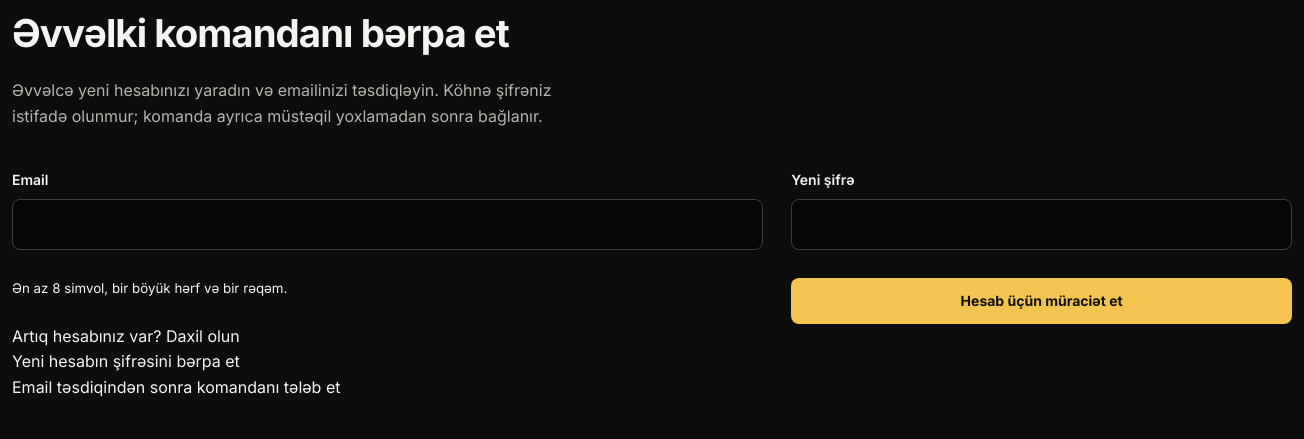
Scenario: failed activation preserves input without claiming success
Step 1. Type "synthetic@example.test" into the field labelled "Email" → (388, 224), box [12,199,763,250]
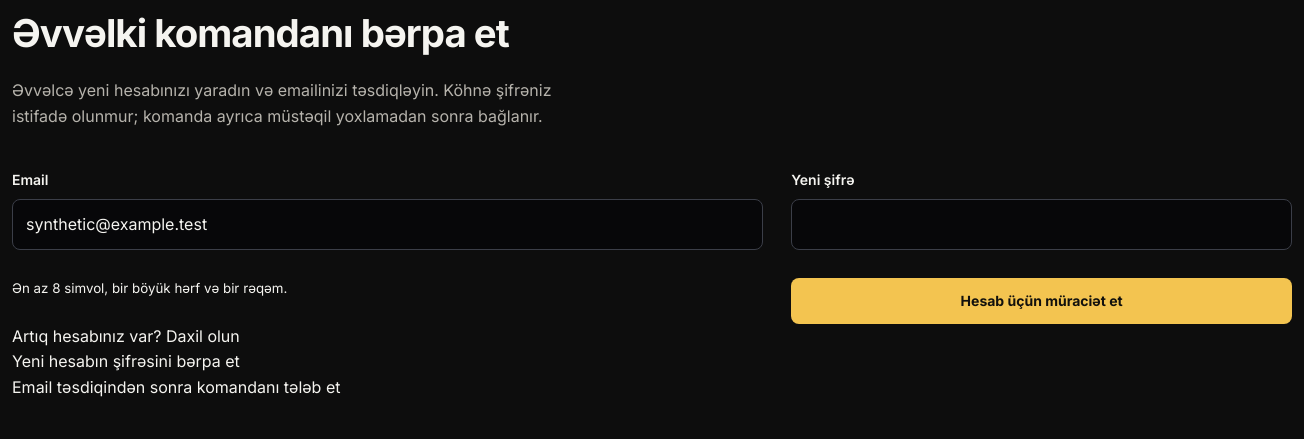
Step 2. Type "Secure1234" into the password field labelled "Yeni şifrə" → (1042, 224), box [791,199,1292,250]
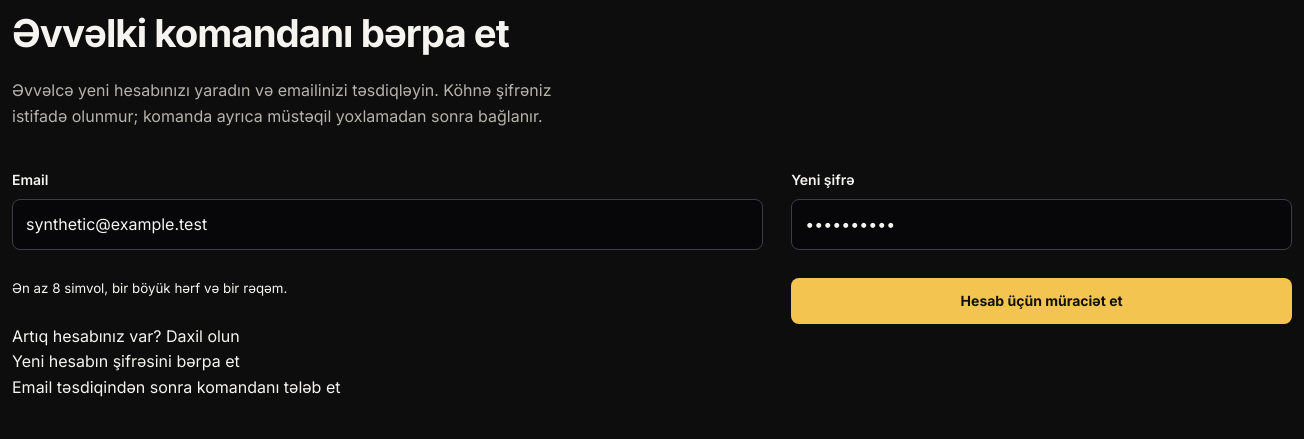
Step 3. Click the button "Hesab üçün müraciət et" → (1042, 301), box [791,278,1292,324]
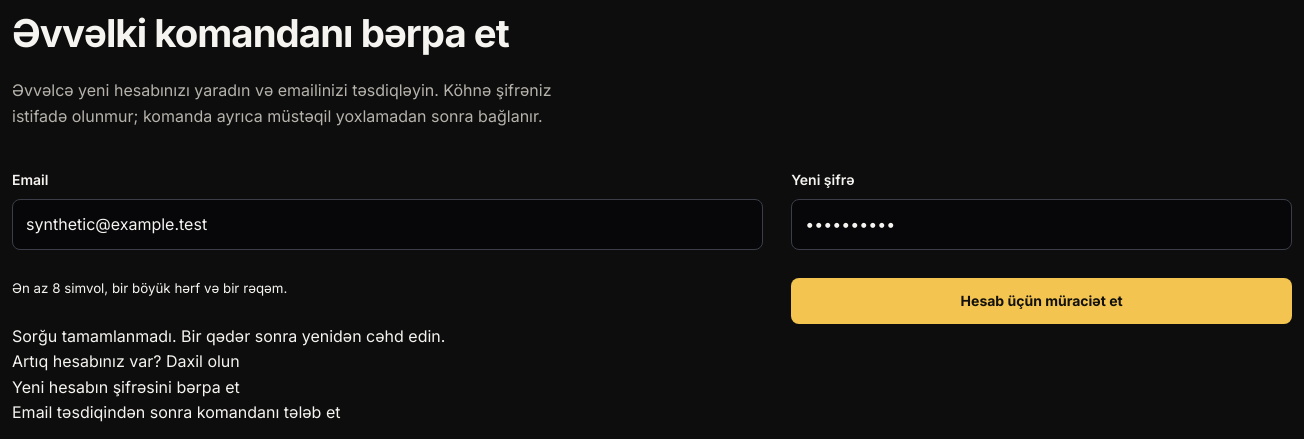
expect the message shows "tamamlanmadı": met, box [12,326,445,346]
